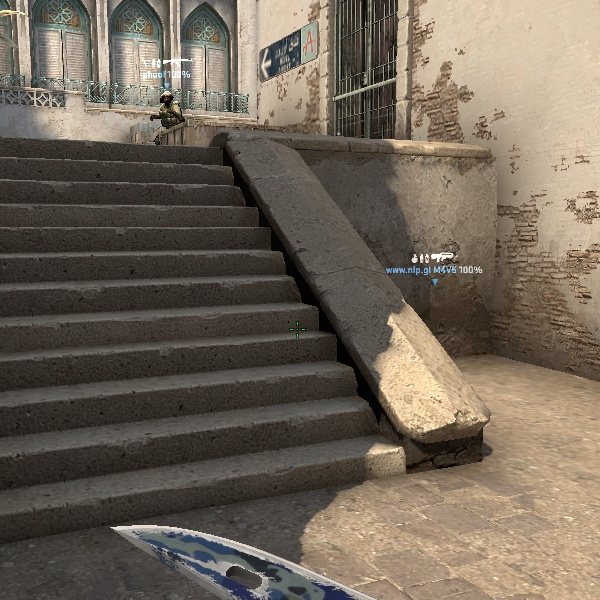ct_body: (150, 90, 184, 124)
ct_head: (160, 90, 173, 106)
